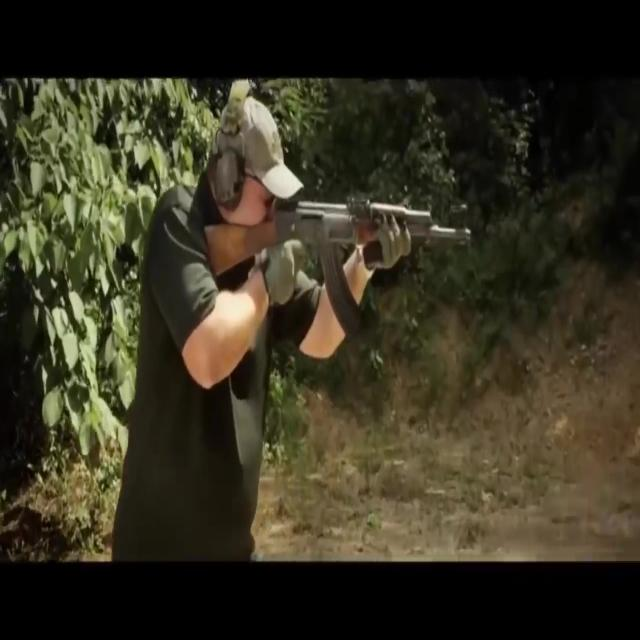Weapon: (207, 180, 476, 346)
